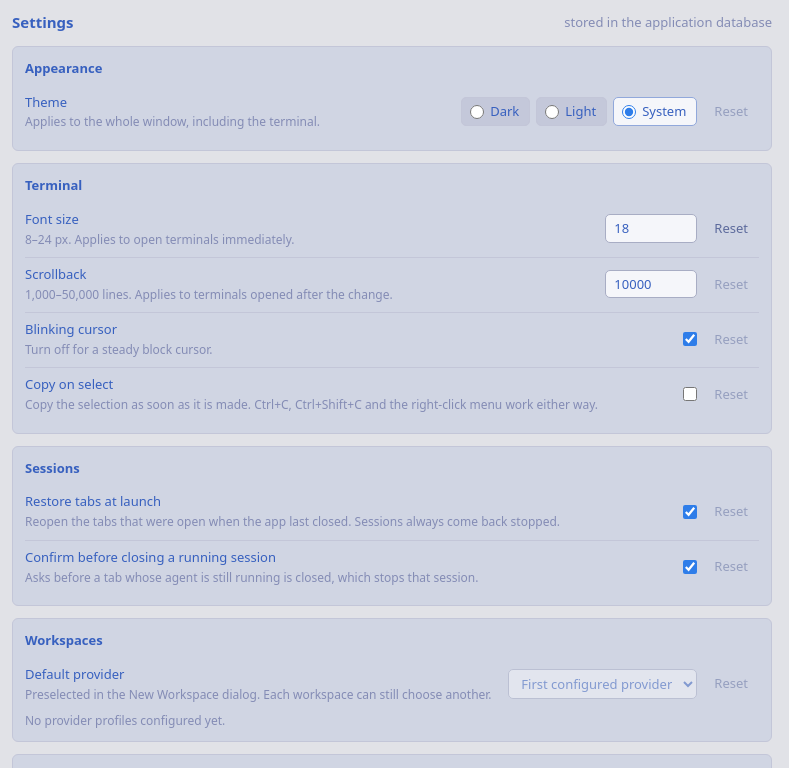
Test: SettingsPanel: writing a setting › resets a row by writing the empty value that deletes it
This screenshot has width=789, height=768.
Expected: the text "stored in the application database" is shown, [564, 14, 772, 32]
Click the button "Reset" in the row of "Font size" at (731, 229), box [703, 214, 759, 243]
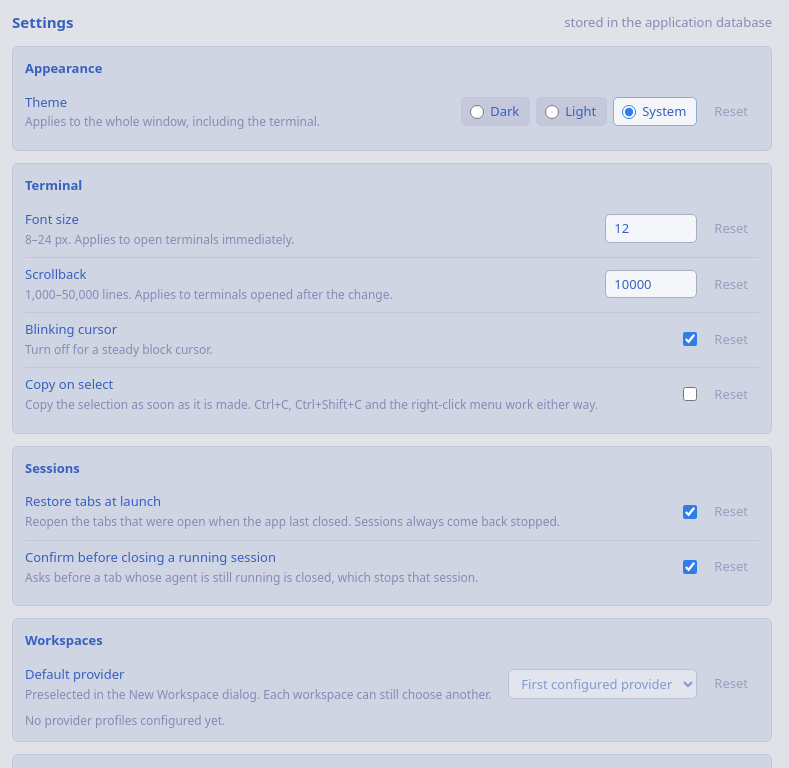
Now the number field named "Font size in pixels" holds "12", box [605, 214, 697, 243]
Now the button "Reset" in the row of "Font size" is disabled, box [703, 214, 759, 243]
